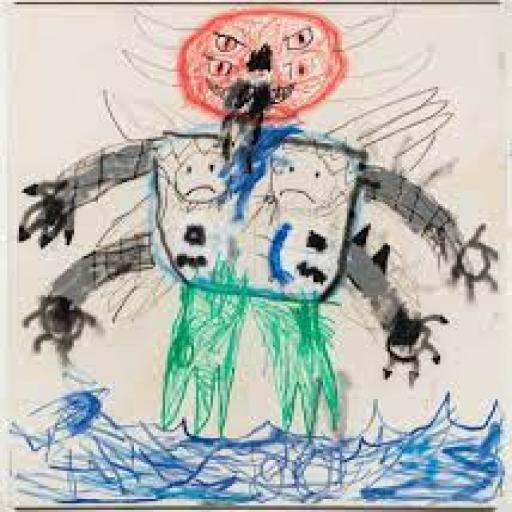person: (259, 126, 352, 228), (160, 123, 238, 220)
